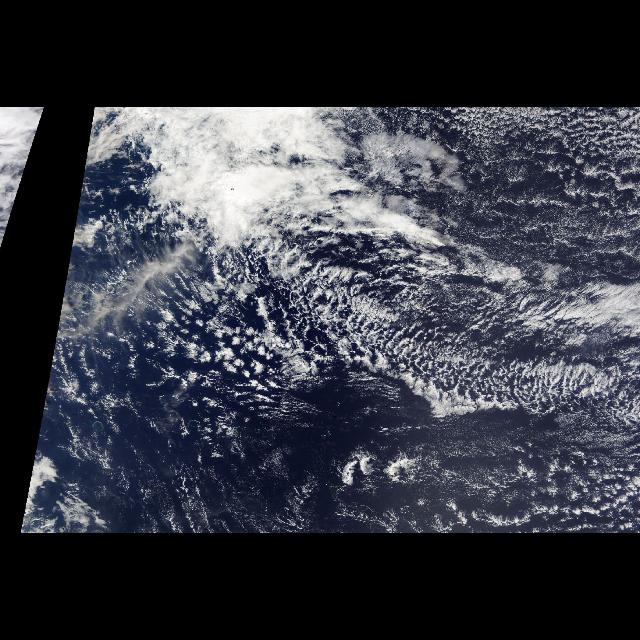Gravel: (242, 273, 640, 522)
Sugar: (414, 111, 640, 275), (310, 425, 630, 533)
